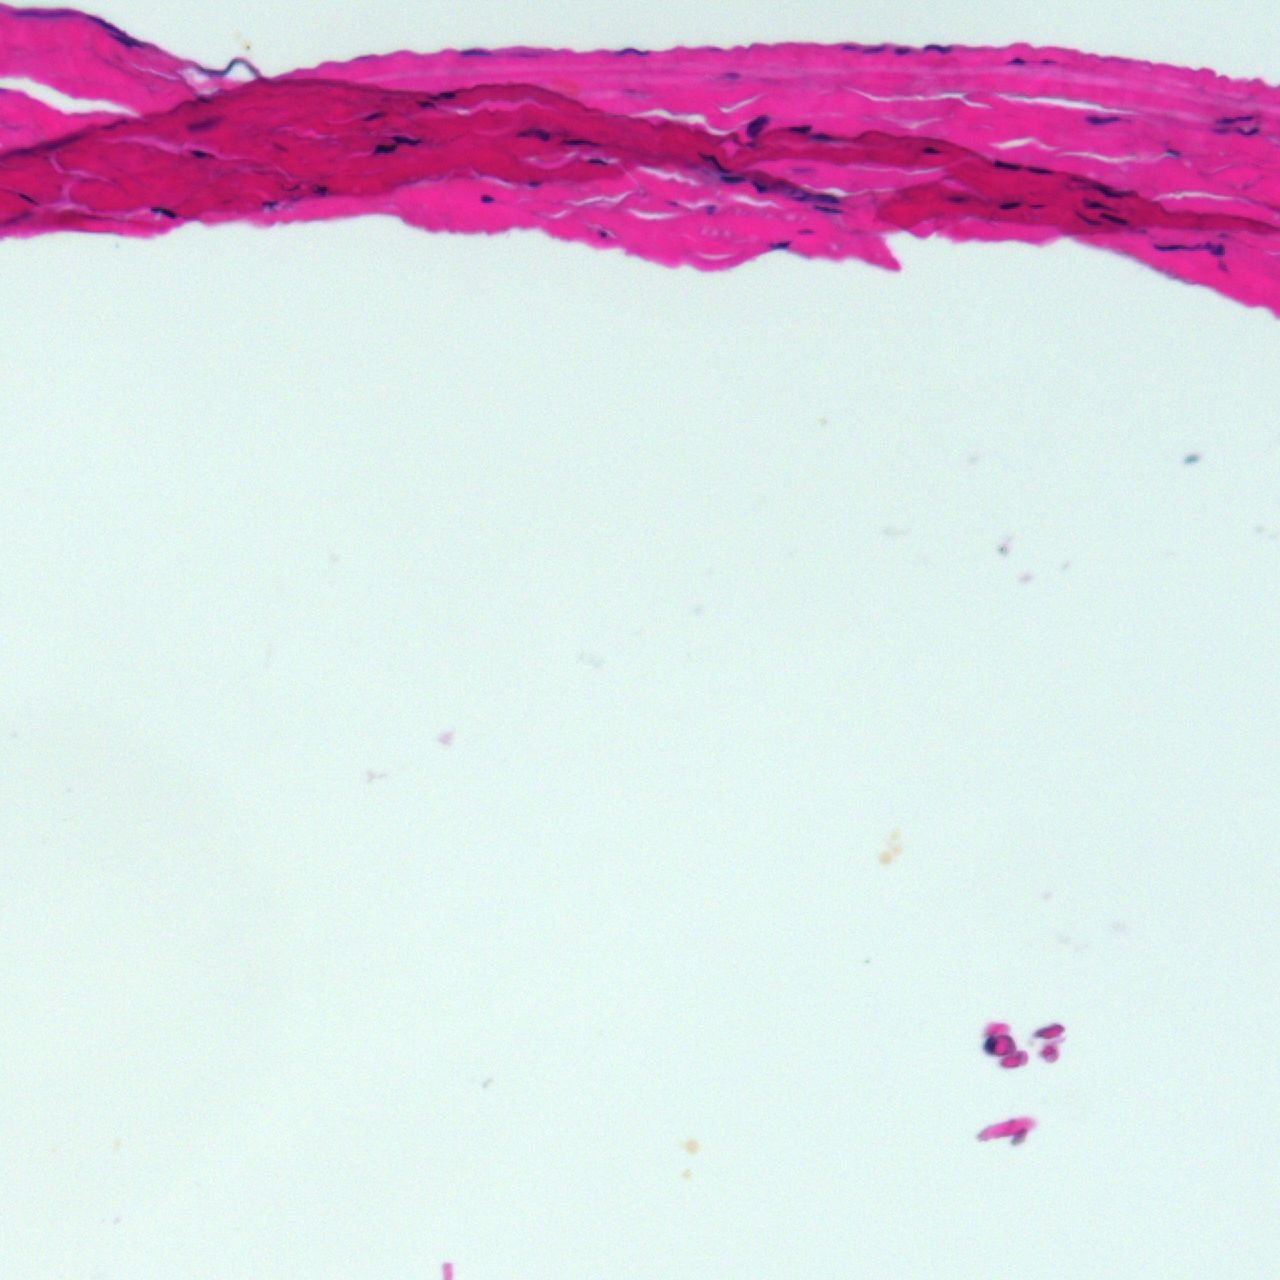nucleus-HE: (695, 146, 732, 179), (89, 12, 125, 39), (1090, 179, 1129, 203), (741, 109, 769, 142), (11, 6, 83, 18), (185, 113, 222, 135), (107, 33, 147, 52), (1072, 208, 1104, 230), (1216, 112, 1255, 127), (1097, 210, 1130, 227), (516, 126, 549, 141), (149, 203, 178, 219), (992, 158, 1023, 172), (16, 190, 38, 208), (1203, 239, 1225, 256), (1084, 115, 1121, 125), (391, 134, 421, 146), (558, 137, 591, 147), (271, 140, 290, 157), (615, 47, 650, 56), (1083, 200, 1112, 210), (372, 143, 397, 154), (922, 43, 952, 52), (814, 205, 843, 214), (1152, 243, 1184, 251), (363, 110, 384, 122), (814, 192, 839, 202), (862, 43, 886, 53), (719, 174, 745, 183), (429, 91, 454, 100), (1236, 126, 1258, 136), (769, 239, 791, 249), (188, 148, 208, 159), (460, 49, 491, 56), (999, 200, 1020, 210), (788, 124, 811, 133), (809, 132, 832, 141), (944, 195, 968, 203), (789, 165, 813, 173), (753, 180, 767, 193), (312, 184, 326, 197), (920, 144, 940, 153), (1028, 166, 1053, 173), (1006, 56, 1025, 65), (479, 193, 494, 204), (840, 43, 857, 52), (415, 100, 434, 108), (1163, 148, 1180, 156), (722, 72, 741, 79), (596, 228, 607, 240), (527, 178, 543, 186), (893, 46, 909, 54), (587, 158, 605, 165), (705, 203, 716, 214), (796, 228, 815, 234), (261, 200, 277, 207), (1039, 58, 1054, 65), (1032, 203, 1043, 209)
